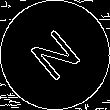N_SE: (24, 23, 86, 87)
